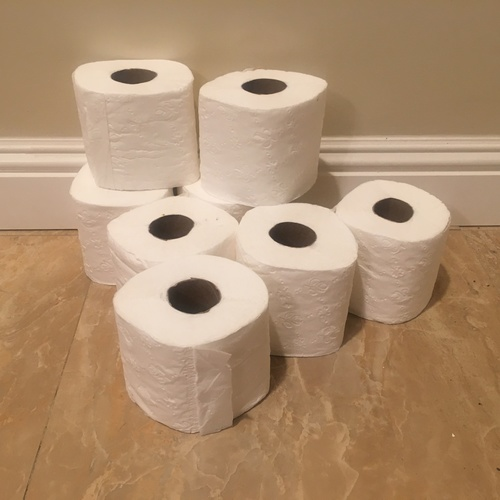roll: (113, 258, 272, 433), (236, 202, 357, 358), (197, 65, 323, 208), (73, 59, 200, 192), (332, 181, 450, 322), (71, 159, 176, 289), (107, 196, 239, 293)
